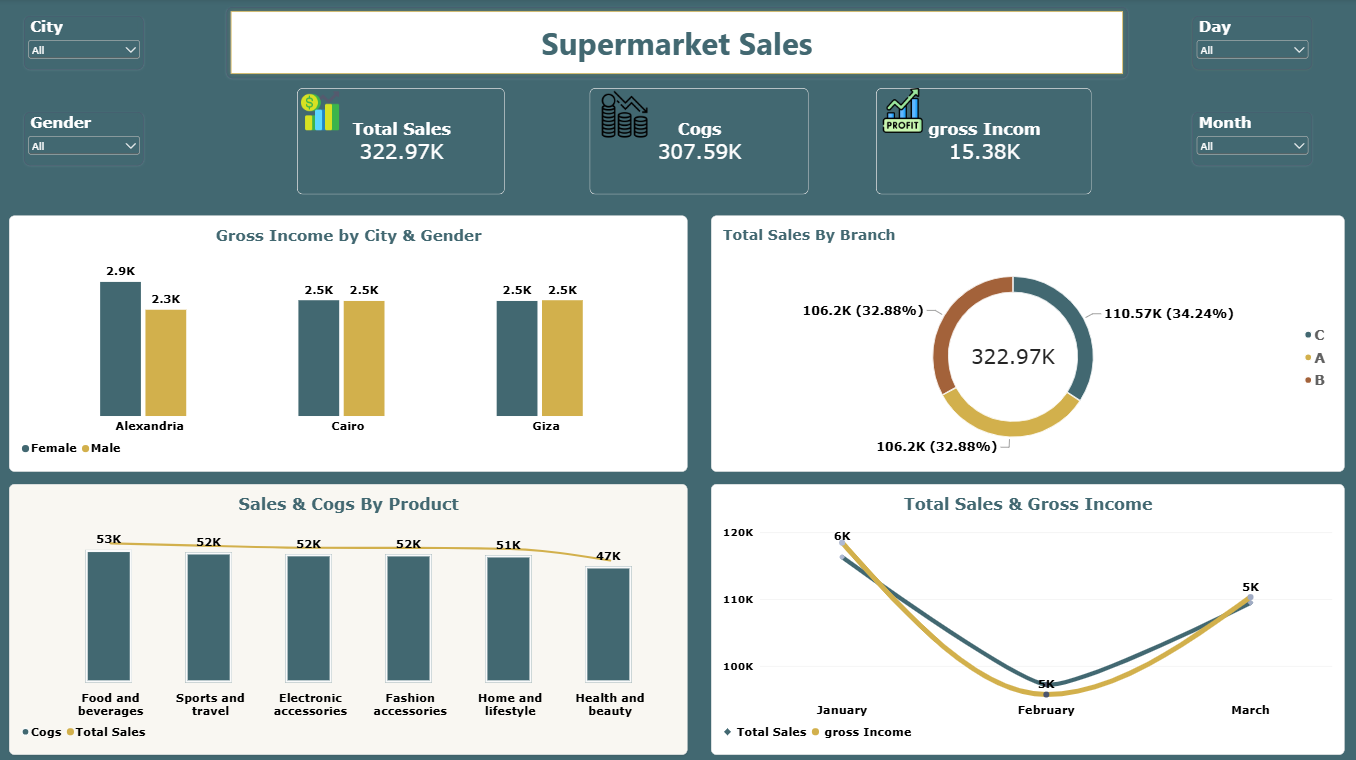

The dashboard page shown, as its layout file describes it:
{"tool":"powerbi","page":{"name":"Wireframe","canvas":[1920,1080],"ordinal":0},"visuals":[{"type":"cardVisual","fields":{"Data":["Sum(supermarket_sales.gross income)"]},"box":[1240.2,126.6,304.8,150],"z":0,"group":"g3"},{"type":"donutChart","title":"Total Sales By Branch","fields":{"Category":["supermarket_sales.Branch"],"Y":["Sum(supermarket_sales.Total)"]},"box":[1005.8,307.1,893.2,361.1],"z":0},{"type":"cardVisual","fields":{"Data":["Sum(supermarket_sales.cogs)"]},"box":[834.6,126.6,309.5,150],"z":1000,"group":"g2"},{"type":"clusteredColumnChart","title":" Gross Income by City & Gender","fields":{"Category":["supermarket_sales.City"],"Series":["supermarket_sales.Gender"],"Y":["Sum(supermarket_sales.gross income)"]},"box":[16.4,307.1,956.5,361.1],"z":1000},{"type":"slicer","fields":{"Values":["supermarket_sales.Date.Variation.Date Hierarchy.Day"]},"box":[1685.7,25.8,168.8,75],"z":2000},{"type":"slicer","fields":{"Values":["supermarket_sales.Date.Variation.Date Hierarchy.Month"]},"box":[1685.7,161.8,168.8,75],"z":3000},{"type":"lineChart","title":"Total Sales & Gross Income","fields":{"Category":["supermarket_sales.Date.Variation.Date Hierarchy.Month"],"Y":["Sum(supermarket_sales.Total)"],"Y2":["Sum(supermarket_sales.gross income)"]},"box":[1005.8,684.6,893.2,382.2],"z":4000},{"type":"lineClusteredColumnComboChart","title":"Sales & Cogs By Product","fields":{"Category":["supermarket_sales.Product line"],"Y":["Sum(supermarket_sales.cogs)"],"Y2":["Sum(supermarket_sales.Total)"]},"box":[16.4,684.6,956.5,382.2],"z":5000},{"type":"shape","box":[323.5,11.7,1270.7,100.8],"z":6000},{"type":"slicer","fields":{"Values":["supermarket_sales.City"]},"box":[37.5,25.8,168.8,75],"z":7000},{"type":"slicer","fields":{"Values":["supermarket_sales.Gender"]},"box":[37.5,161.8,168.8,75],"z":8000},{"type":"group","id":"g1","title":"Group 1","box":[407.9,126.6,307.1,150],"z":10000},{"type":"group","id":"g2","title":"Group 2","box":[834.6,89.1,309.5,187.6],"z":11000},{"type":"cardVisual","fields":{"Data":["supermarket_sales.Total Sales"]},"box":[421.8,126.9,293.1,150],"z":11000,"group":"g1"},{"type":"image","box":[407.9,126.6,94,64],"z":12000,"group":"g1"},{"type":"group","id":"g3","title":"Group 3","box":[1193.3,126.6,351.7,150],"z":12000},{"type":"image","box":[1193.3,126.6,168.8,63.3],"z":13000,"group":"g3"},{"type":"image","box":[851,89.1,65.6,150],"z":14000,"group":"g2"}]}

Visuals, with their boxes in screenshot pixels (x1, y1, x2, y2), scaled from the page's 1920x1080 canvas onto the 1356x760 screenshot:
cardVisual - Sum(supermarket_sales.gross income): left=876, top=89, right=1091, bottom=195
"Total Sales By Branch" donutChart: left=710, top=216, right=1341, bottom=470
cardVisual - Sum(supermarket_sales.cogs): left=589, top=89, right=808, bottom=195
" Gross Income by City & Gender" clusteredColumnChart: left=12, top=216, right=687, bottom=470
slicer - supermarket_sales.Date.Variation.Date Hierarchy.Day: left=1191, top=18, right=1310, bottom=71
slicer - supermarket_sales.Date.Variation.Date Hierarchy.Month: left=1191, top=114, right=1310, bottom=167
"Total Sales & Gross Income" lineChart: left=710, top=482, right=1341, bottom=751
"Sales & Cogs By Product" lineClusteredColumnComboChart: left=12, top=482, right=687, bottom=751
shape: left=228, top=8, right=1126, bottom=79
slicer - supermarket_sales.City: left=26, top=18, right=146, bottom=71
slicer - supermarket_sales.Gender: left=26, top=114, right=146, bottom=167
"Group 1" group: left=288, top=89, right=505, bottom=195
"Group 2" group: left=589, top=63, right=808, bottom=195
cardVisual - supermarket_sales.Total Sales: left=298, top=89, right=505, bottom=195
image: left=288, top=89, right=354, bottom=134
"Group 3" group: left=843, top=89, right=1091, bottom=195
image: left=843, top=89, right=962, bottom=134
image: left=601, top=63, right=647, bottom=168
